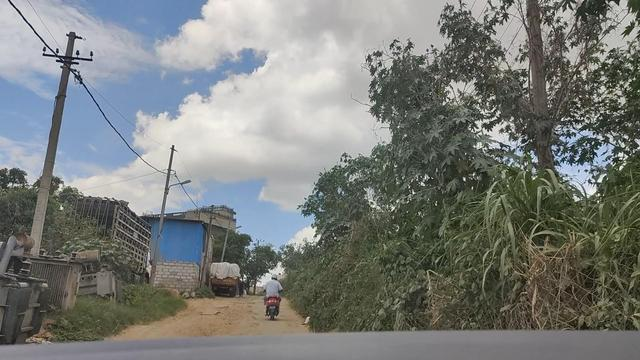HMV: (204, 258, 241, 302)
UnsurfacedRoad: (169, 300, 259, 332)
